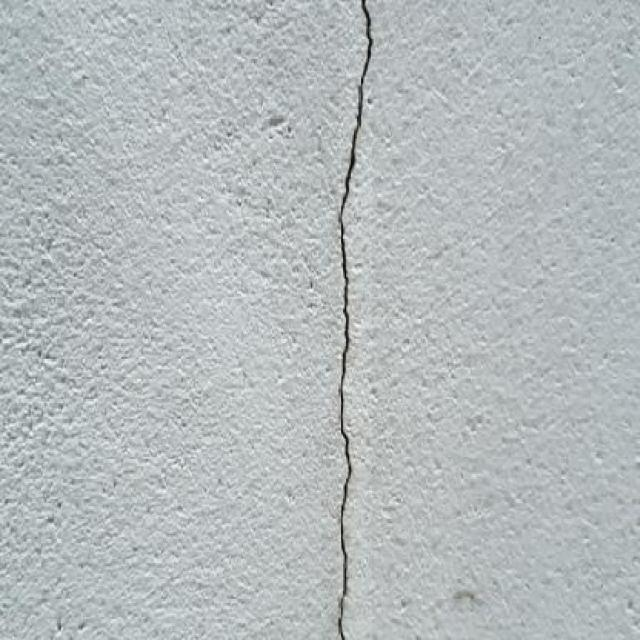Crack: (332, 0, 374, 639)
